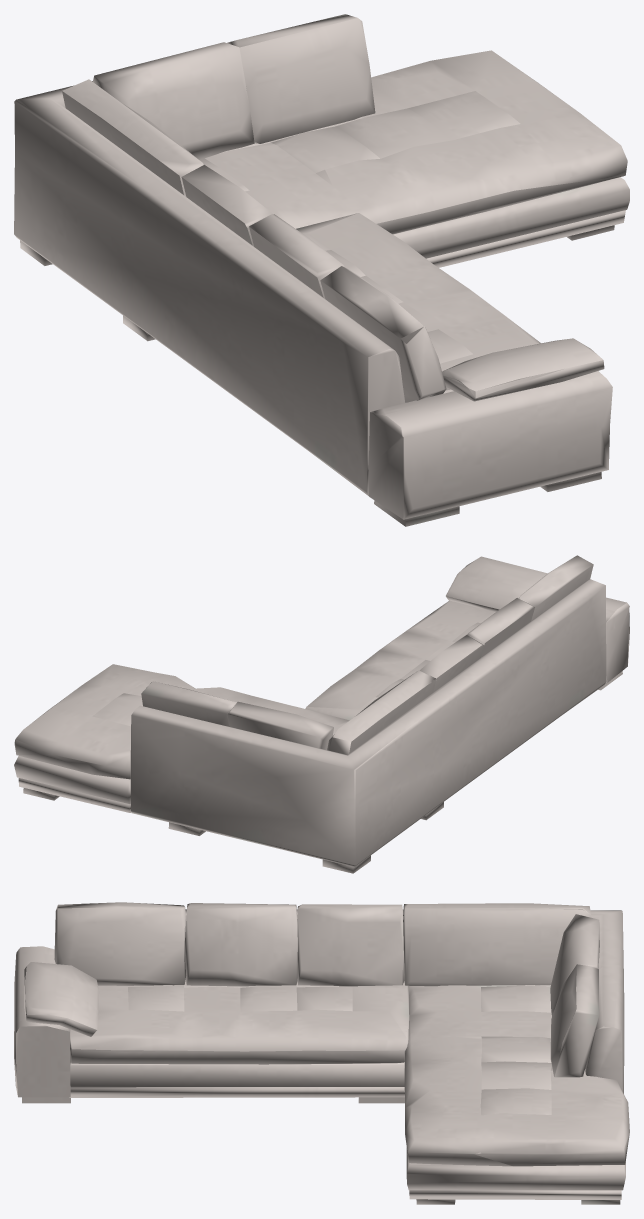
File: M_Sofa0005.obj
The picture shows the model from 3 angles, top to bottom: view 1: azimuth 30°, elevation 25°; view 2: azimuth 150°, elevation 25°; view 3: azimuth 270°, elevation 25°; orthographic projection. The views are drawn at different scales.
Bounding box in the file's own units: 1.75 × 0.618 × 2.48.
1 material, 1 textured.
